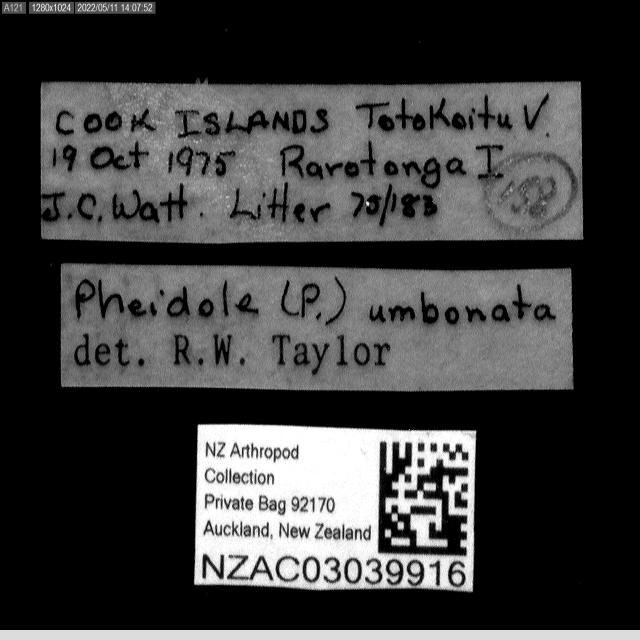hand_label: (41, 81, 582, 242)
mixed_label: (61, 264, 572, 391)
typed_label: (195, 425, 475, 591)
